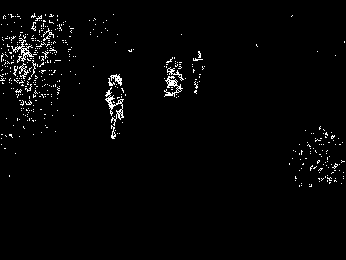person: (104, 73, 127, 140)
